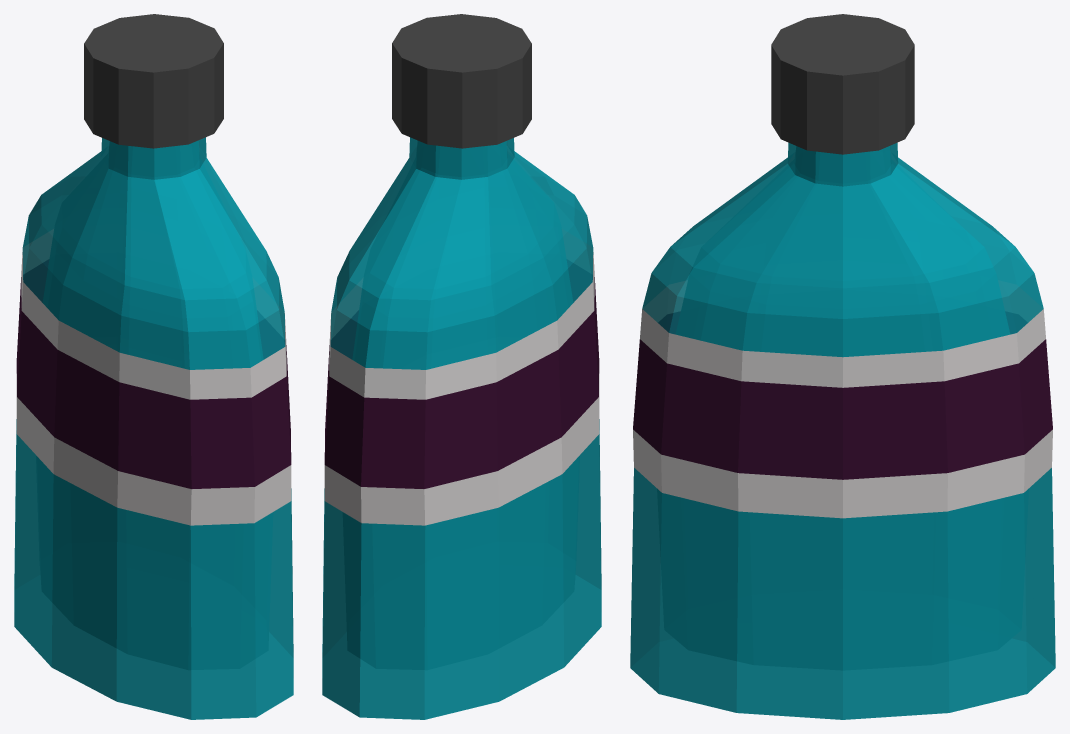
File: Spirit Bottle 3.fbx
3 renders of one model, left to right at view 1: azimuth 30°, elevation 25°; view 2: azimuth 150°, elevation 25°; view 3: azimuth 270°, elevation 25°, orthographic. The views are drawn at different scales.
Parts seen in each view (by area): view 1: Spirit Bottle 3, Spirit Bottle 1 Lid; view 2: Spirit Bottle 3, Spirit Bottle 1 Lid; view 3: Spirit Bottle 3, Spirit Bottle 1 Lid.
Boxes of the visible parts, x1,y1,x2,y2 form: Spirit Bottle 3: (14, 137, 293, 719); Spirit Bottle 1 Lid: (84, 14, 223, 148); Spirit Bottle 3: (322, 137, 601, 719); Spirit Bottle 1 Lid: (392, 14, 531, 148); Spirit Bottle 3: (630, 142, 1055, 719); Spirit Bottle 1 Lid: (771, 14, 914, 154).
Size of the model in its own units: 146 by 410 by 254.
